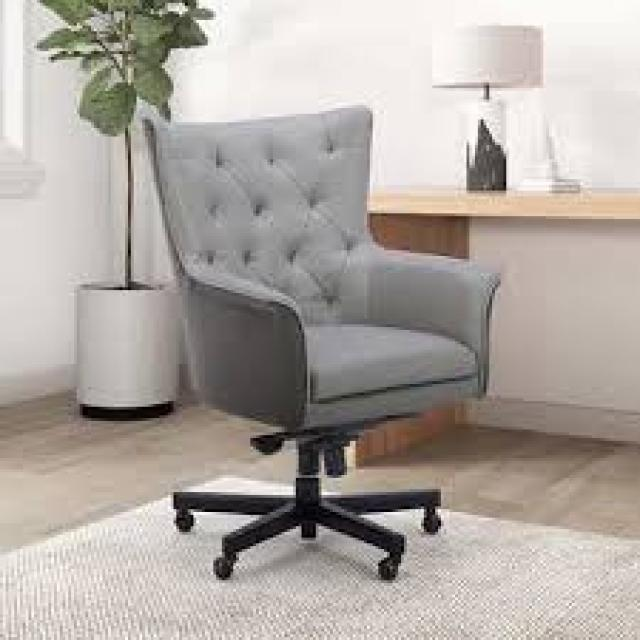chair: (93, 84, 545, 632)
